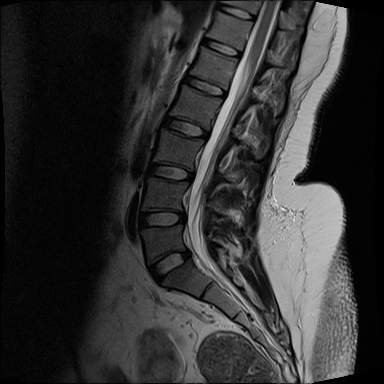Lumbar Disc Bulge LDB: (138, 242, 194, 290), (133, 207, 192, 232)
Normal IVD: (139, 156, 200, 187), (175, 70, 230, 103), (159, 112, 215, 144), (195, 33, 245, 65), (214, 2, 259, 24)
Spinal Stenosis SS: (174, 207, 196, 230)
